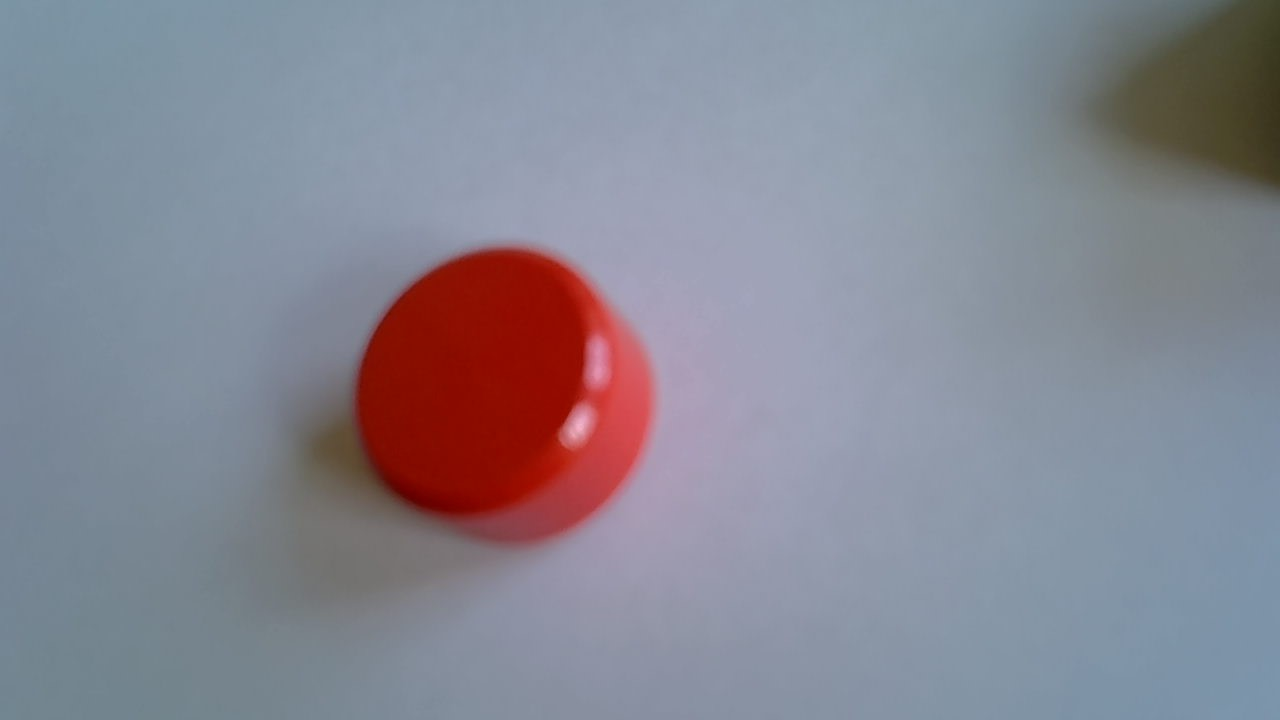WerkStueck: (352, 248, 660, 550)
